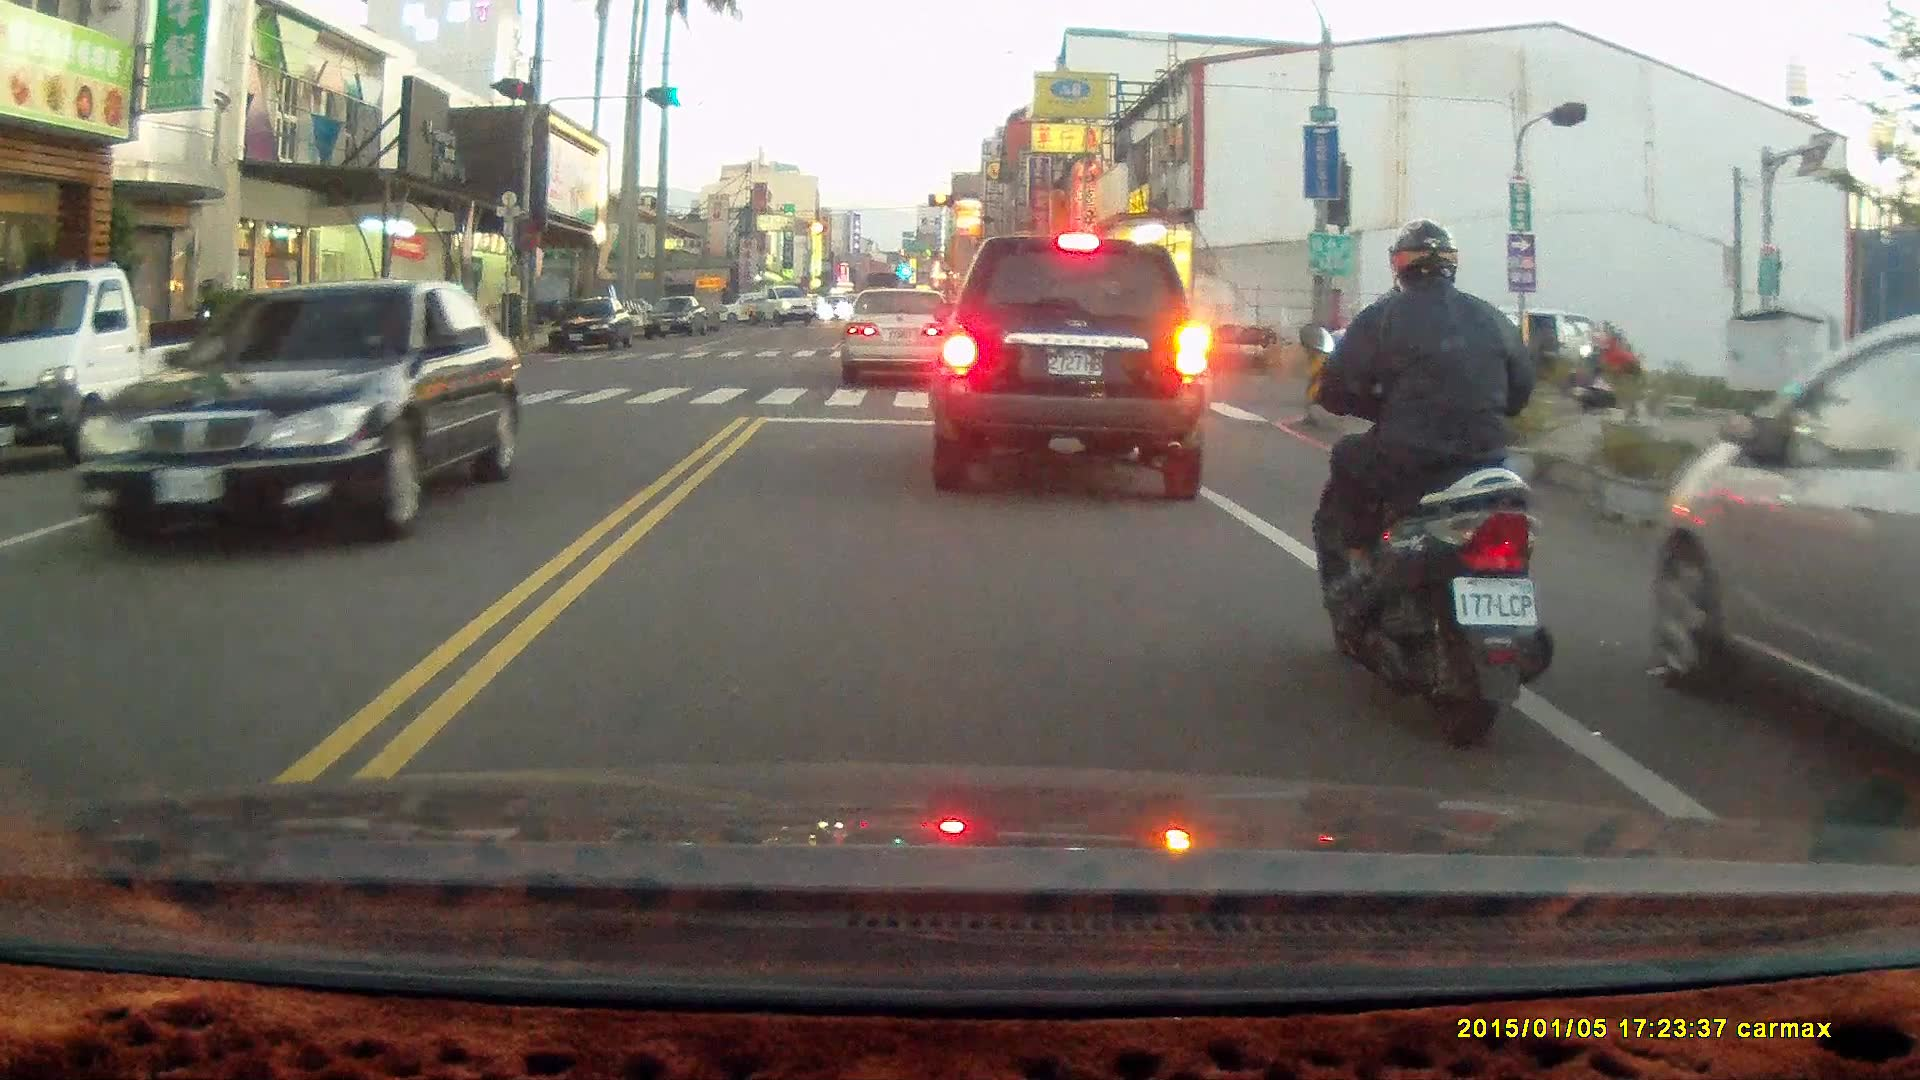pedestrian: (1533, 318, 1556, 383)
rider: (1298, 214, 1555, 746), (1575, 321, 1658, 417)
vehicle: (1640, 324, 1920, 804), (96, 277, 516, 549), (931, 233, 1211, 502), (1, 268, 217, 458), (844, 287, 955, 384), (550, 296, 641, 354), (642, 296, 710, 339)
